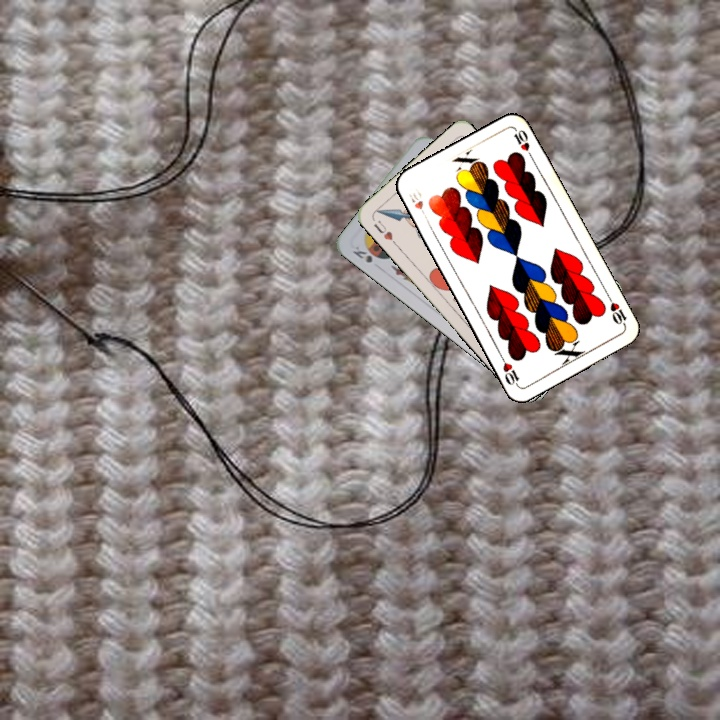H10: (603, 291, 630, 328), (404, 184, 430, 222)
HU: (369, 216, 400, 248)
SK: (348, 241, 375, 266)
